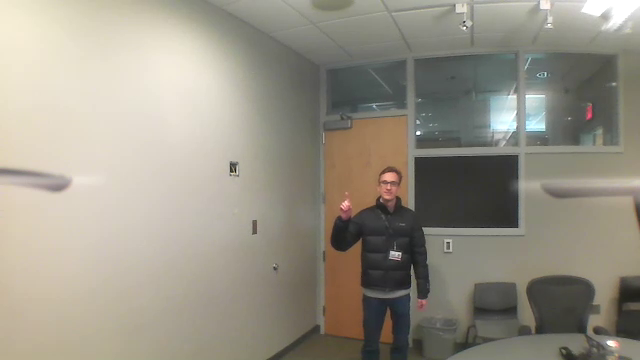up: (337, 189, 357, 218)
